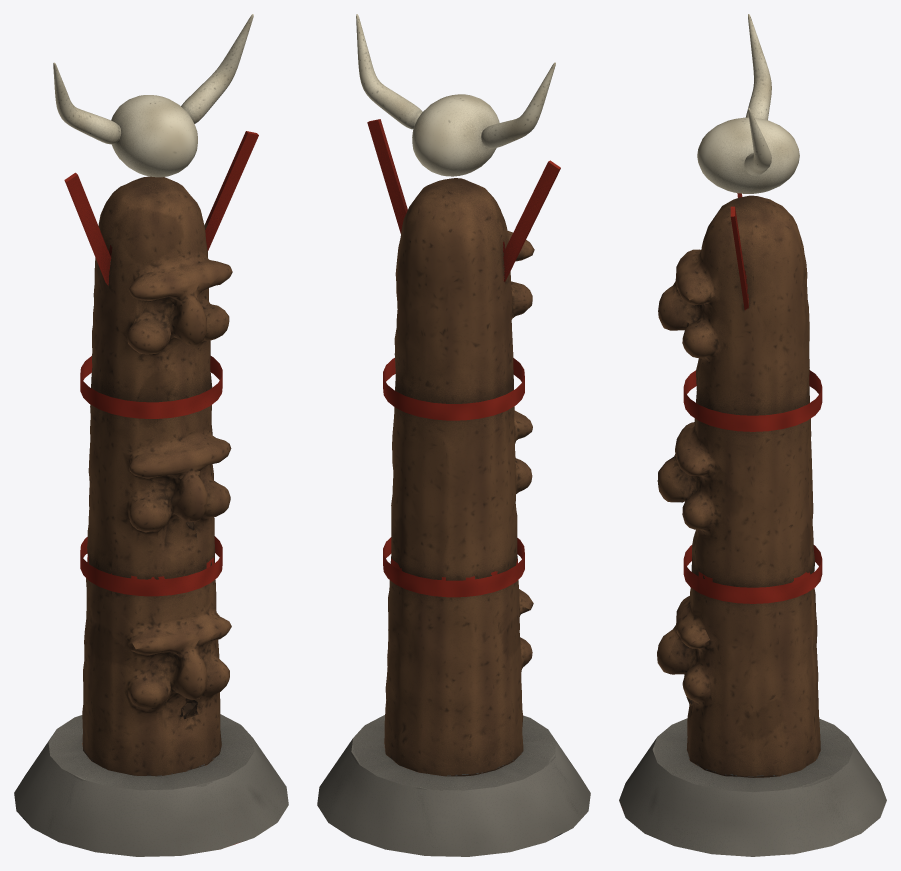
Rendered from cenario_totem_goblin.glb.
3 renders of one model, left to right at view 1: azimuth 30°, elevation 25°; view 2: azimuth 150°, elevation 25°; view 3: azimuth 270°, elevation 25°, orthographic. The views are drawn at different scales.
Parts seen in each view (by area): view 1: cenario_totem_goblin; view 2: cenario_totem_goblin; view 3: cenario_totem_goblin.
Part boxes in pixels (x1,y1,x2,y2): cenario_totem_goblin: [14, 14, 288, 856]; cenario_totem_goblin: [317, 14, 590, 856]; cenario_totem_goblin: [619, 14, 886, 856].
Size of the model in its own units: 1.2 by 3.71 by 1.2.
1 material, 1 textured.
